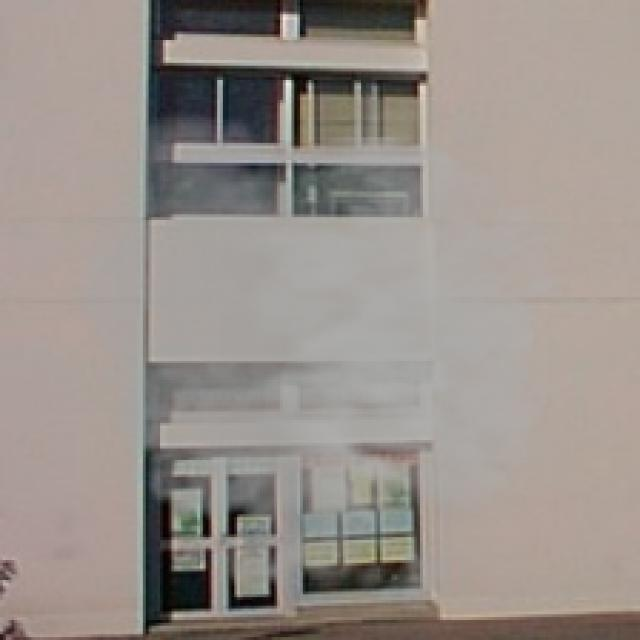smoke: (45, 100, 606, 623)
